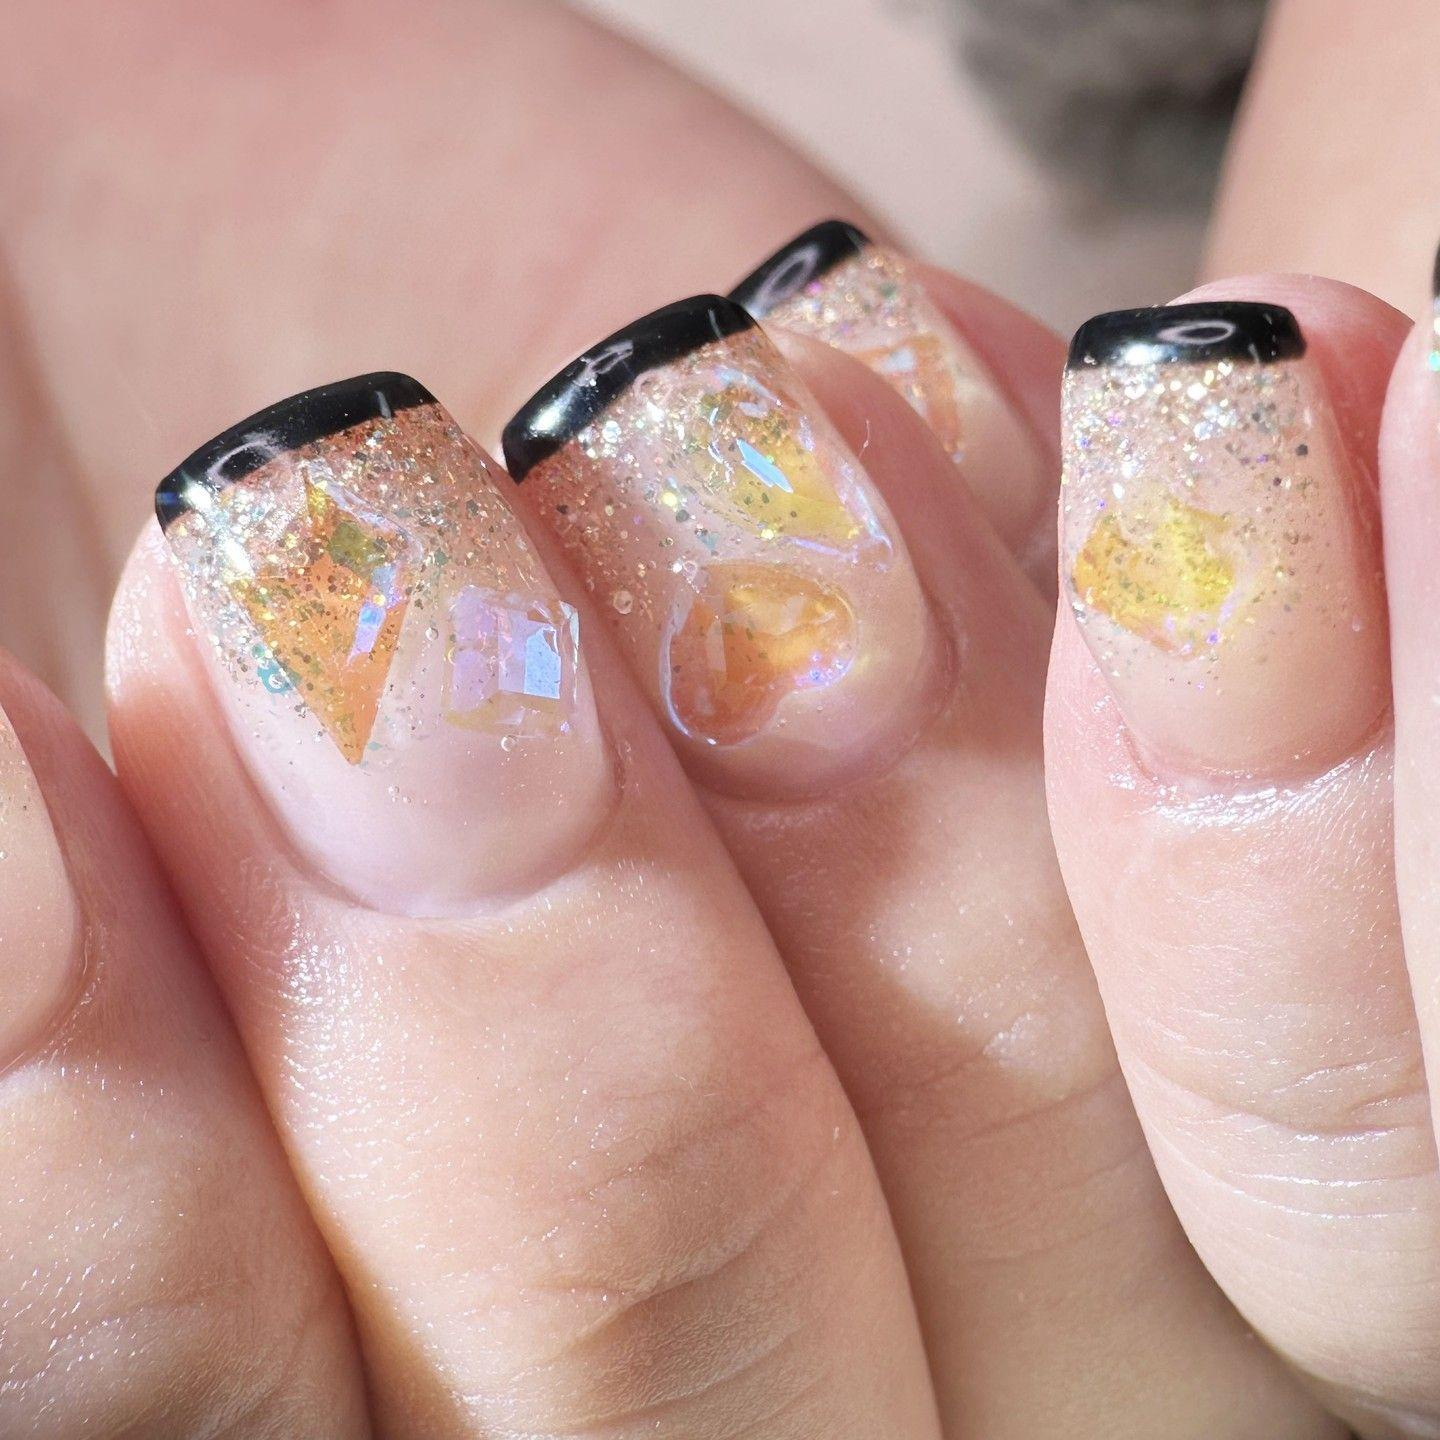nail: (150, 367, 622, 914), (498, 289, 957, 800), (1055, 291, 1389, 785)
